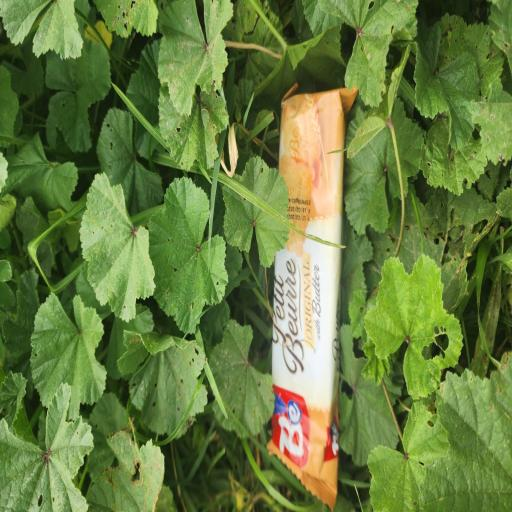petit-beurre: (242, 57, 395, 498)
